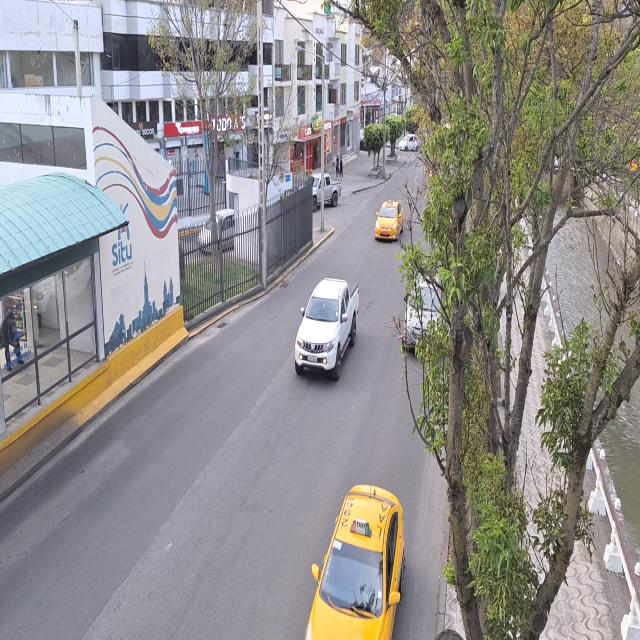CMT: (296, 277, 359, 378)
